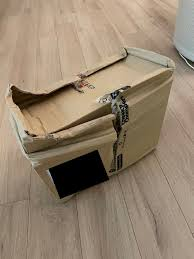damaged package: (7, 68, 93, 140), (93, 81, 136, 175), (111, 47, 172, 80)
